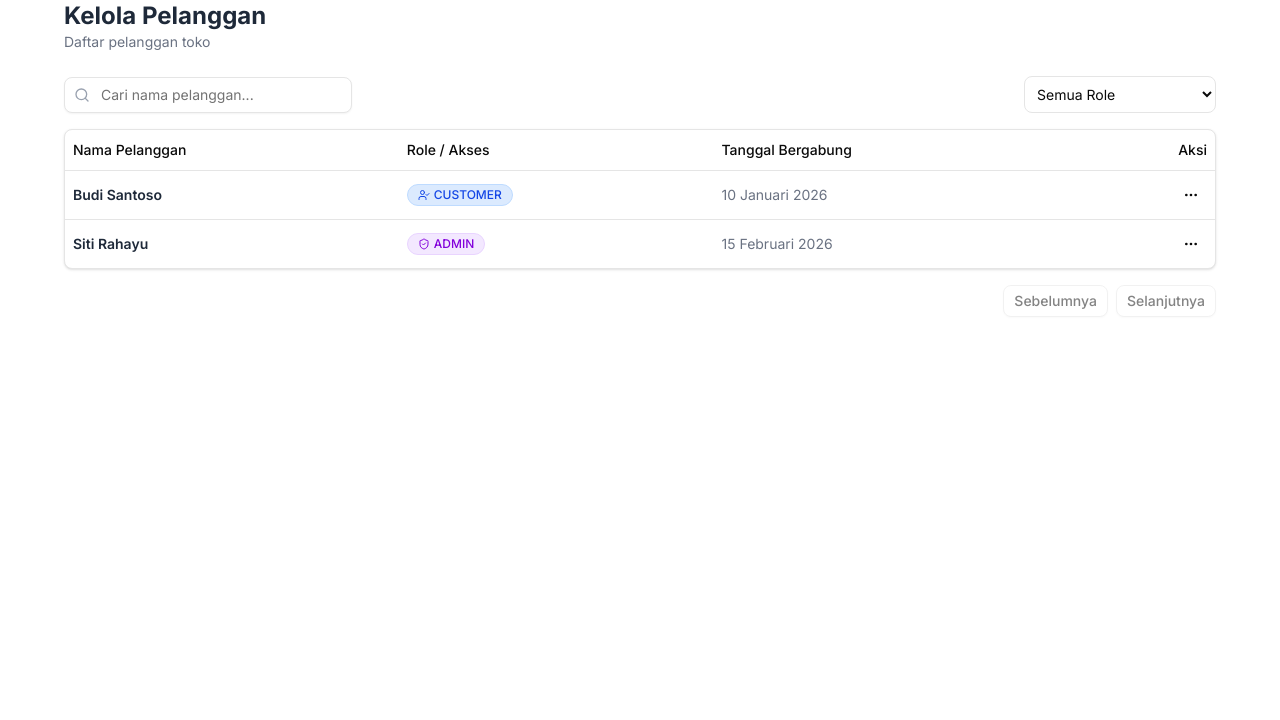
Test: Unit: AdminCustomersPage › membuka dialog Ubah Role saat tombol opsi diklik
The width and height of the screenshot is (1280, 720).
expect the text "Budi Santoso" is shown: met, box [73,186,162,202]
Step 1. Click the button without text in the row of "Budi Santoso" → (1191, 194), box [1175,178,1207,210]
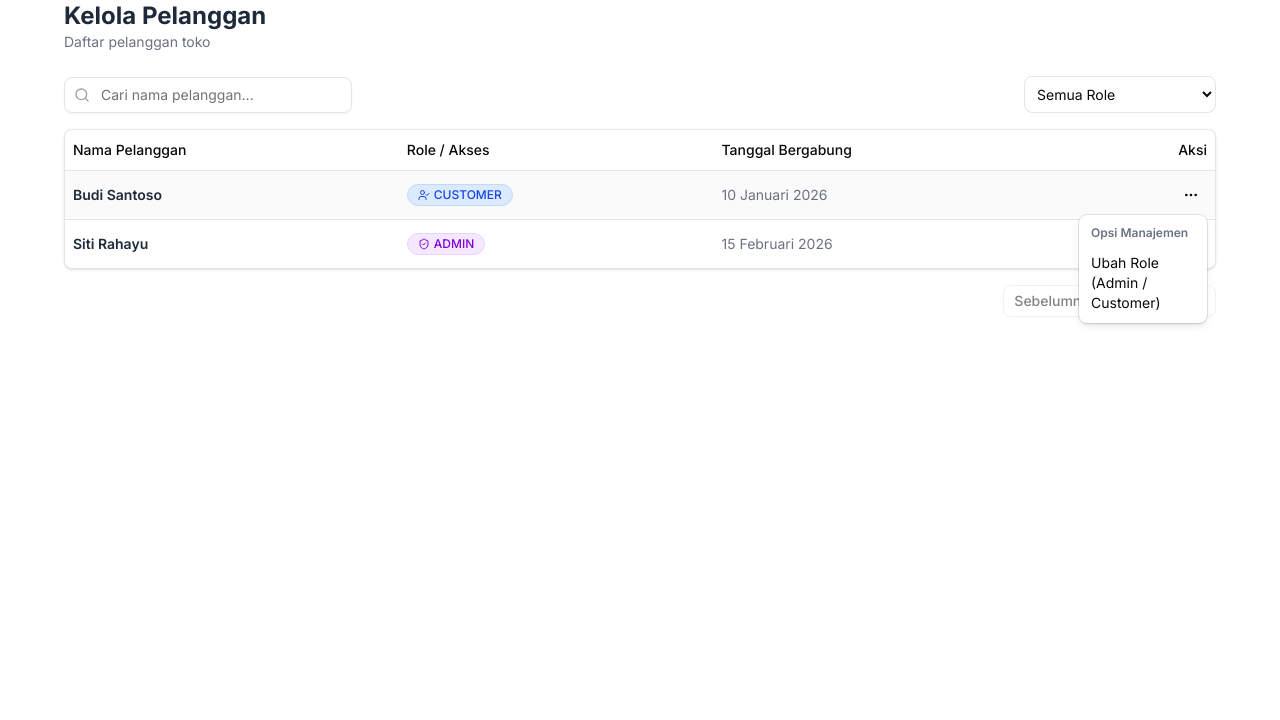
expect the menu item "Ubah Role (Admin / Customer)" is shown: met
Step 2. Click the menu item "Ubah Role (Admin / Customer)" → (1126, 282), box [1091,254,1160,311]
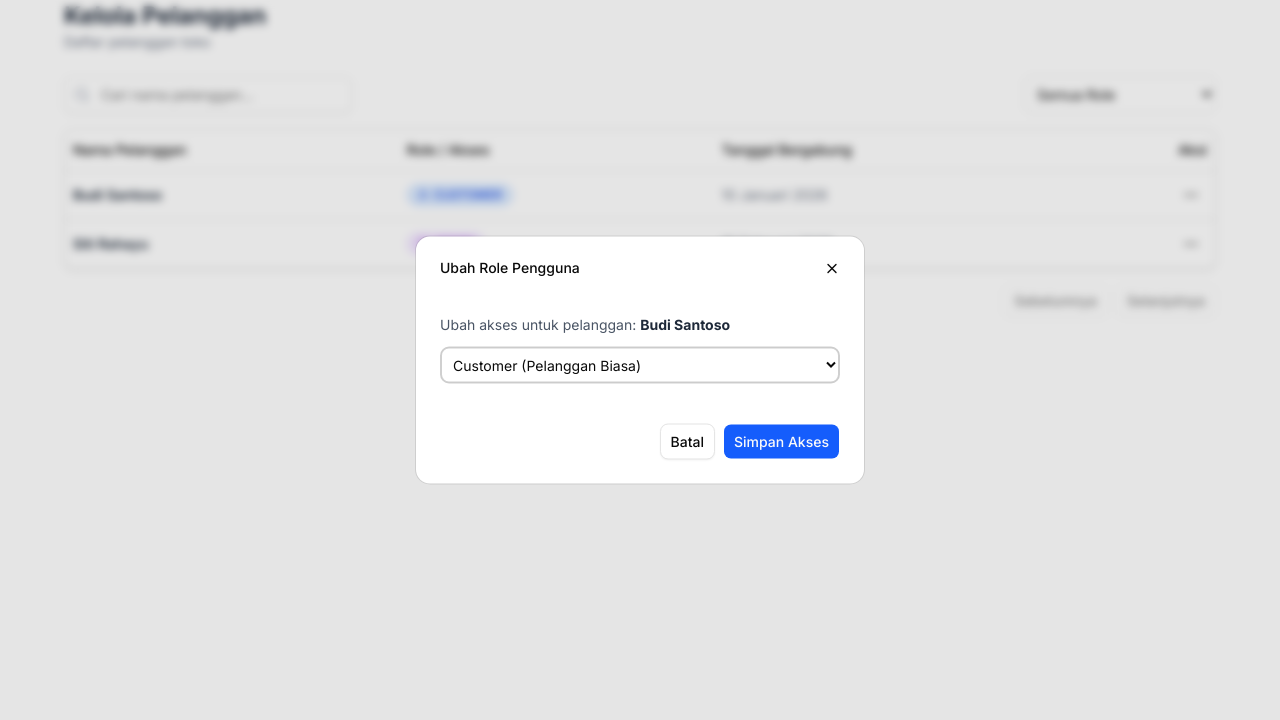
expect the heading "Ubah Role Pengguna" is shown: met, box [440,258,580,276]
expect the text "Ubah akses untuk pelanggan:" is shown: met, box [440,316,636,332]
expect the text "Budi Santoso" is shown: met, box [640,316,730,332]
